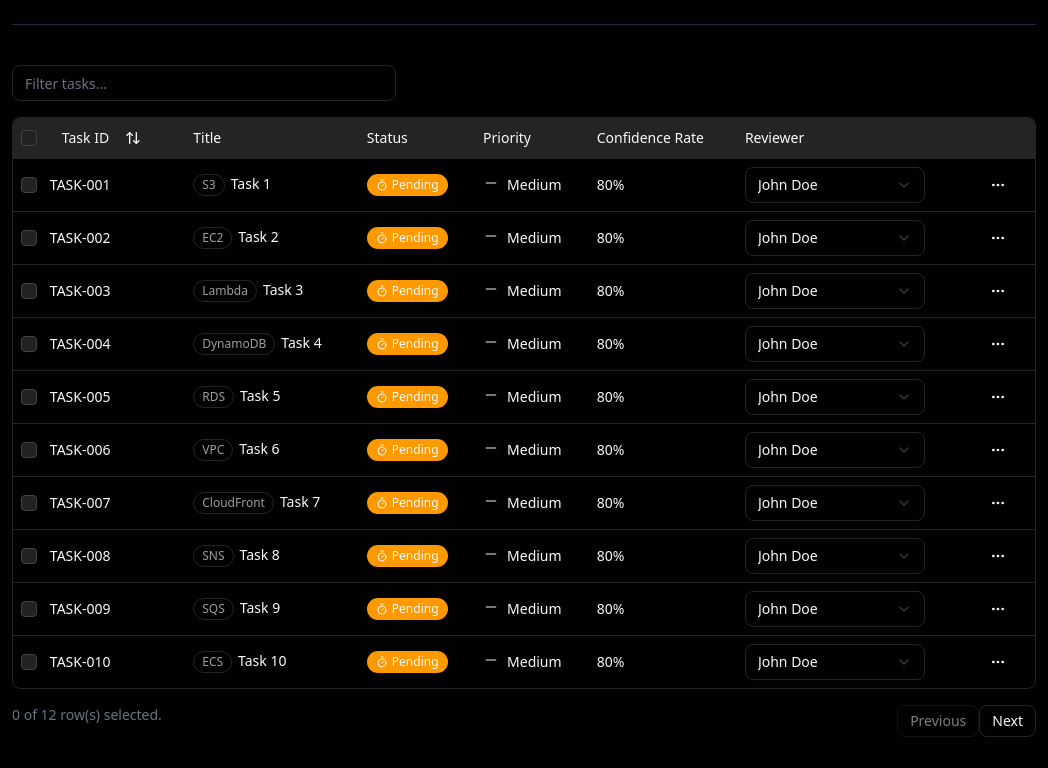
Test: TaskTable › paginates when there are more rows than fit on a page
The image size is (1048, 768).
Expected: the text "TASK-001" is shown, [42,158,185,211]
Expected: the text "TASK-011" is not shown
Click the button "Next" at (1008, 720), box [979,704,1036,736]
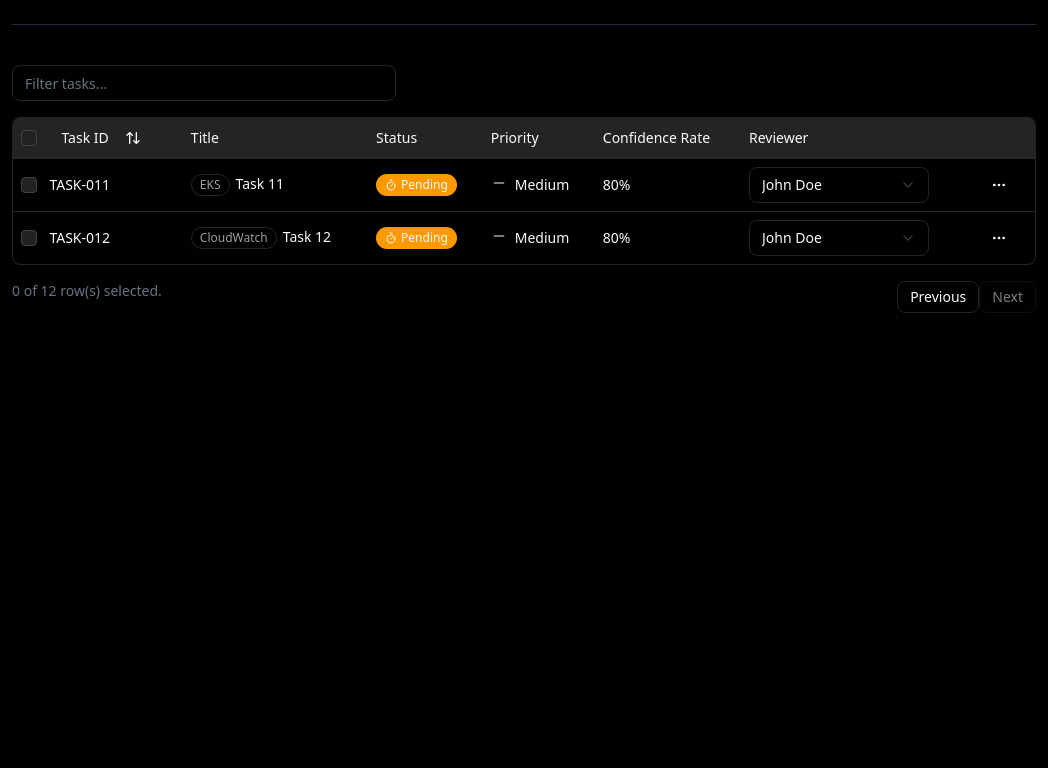
Expected: the text "TASK-011" is shown, [41,158,183,211]
Expected: the text "TASK-001" is gone
Click the button "Previous" at (938, 296), box [897,280,979,312]
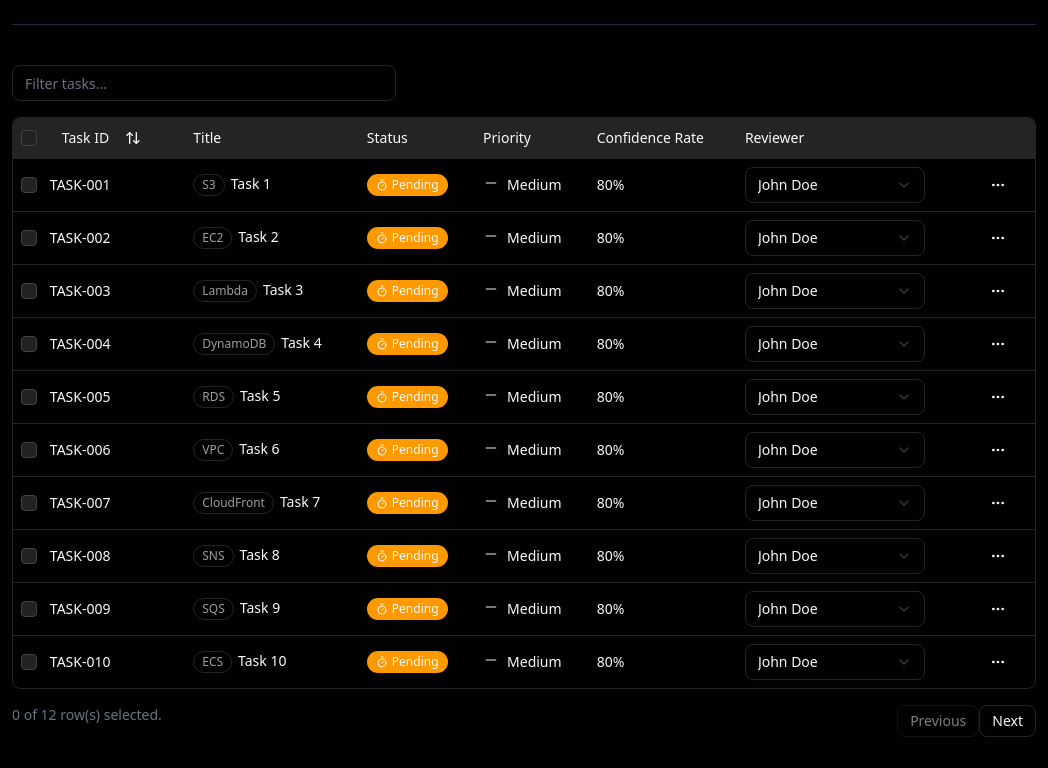
Expected: the text "TASK-001" is shown, [42,158,185,211]
